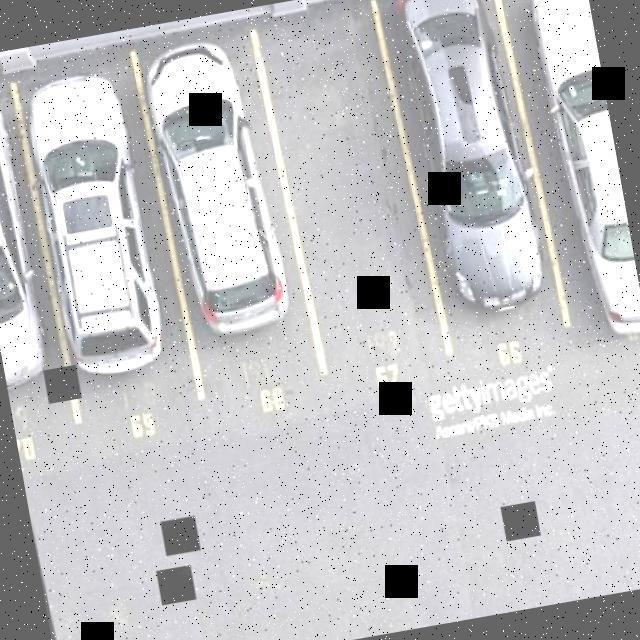car: (130, 18, 312, 366), (386, 0, 565, 329), (18, 70, 190, 398), (502, 0, 640, 354), (0, 92, 64, 419)
free: (260, 6, 445, 382)
